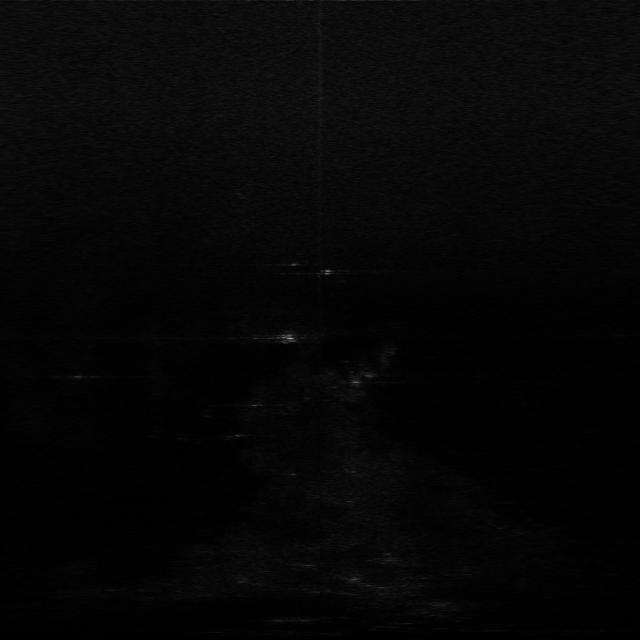rov: (273, 330, 303, 349)
